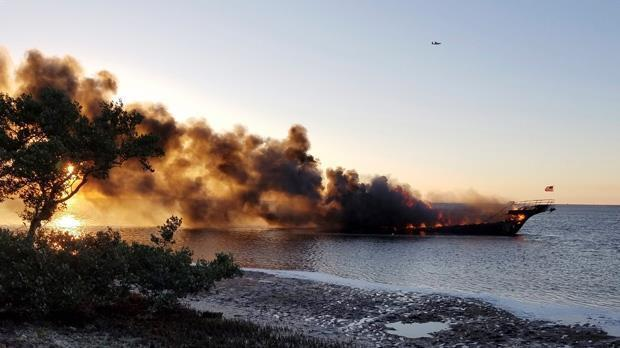smoke: (193, 145, 277, 207), (460, 202, 509, 235)
